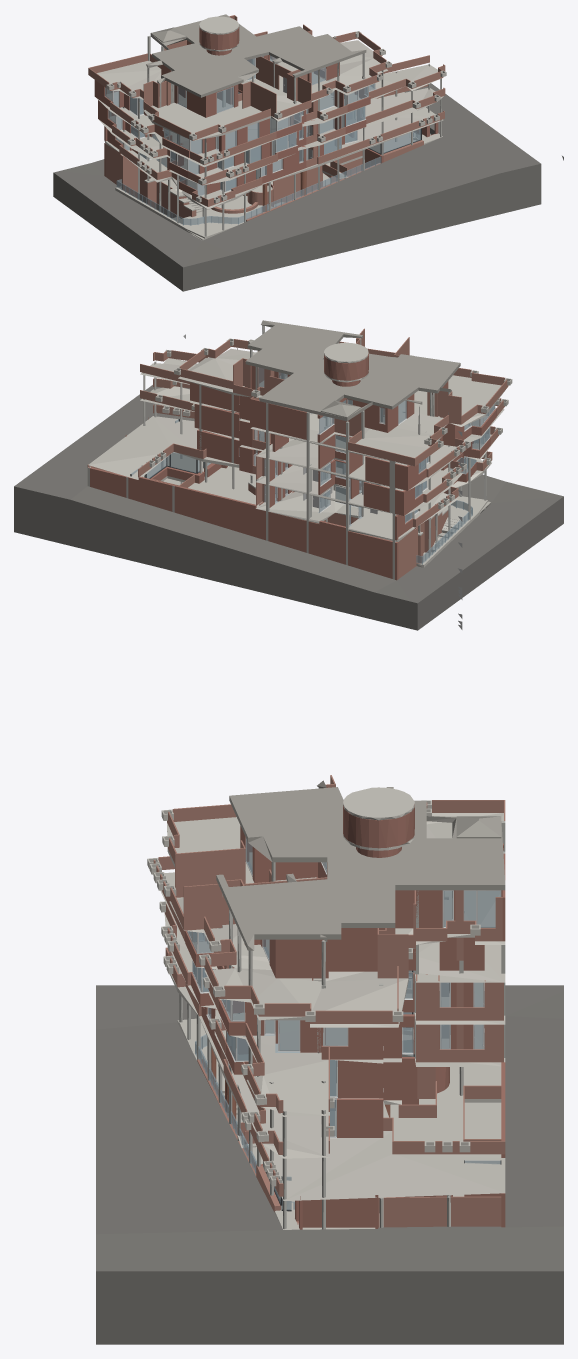
File: casa-ios.glb
The picture shows the model from 3 angles, top to bottom: view 1: azimuth 30°, elevation 25°; view 2: azimuth 150°, elevation 25°; view 3: azimuth 270°, elevation 25°; orthographic projection. The views are drawn at different scales.
Visible parts, largest first — view 1: Solido_topografico_Traiettoria___Asfalto_350_mm__1956631__11, Muro_di_base_parapetto___40_cm_2__161171__2, Pavimento_Latero_Cementizio___30_cm__147194__1, Gealan_S_9000_MD_800mm_x_2100mm_Finestra__214286__5, Muro_di_base_Tamponamento_Esterno___30_cm_2__165797__3, Tetto_di_base_Latero_Cementizio___40_cm__1576309__9, Pilastro_in_calcestruzzo___Circolare_300__190254__4, Famiglia34_Tipo_1__1580069__10; view 2: Solido_topografico_Traiettoria___Asfalto_350_mm__1956631__11, Muro_di_base_Tamponamento_Esterno___30_cm_2__165797__3, Pavimento_Latero_Cementizio___30_cm__147194__1, Muro_di_base_parapetto___40_cm_2__161171__2, Tetto_di_base_Latero_Cementizio___40_cm__1576309__9, Pilastro_in_calcestruzzo___Circolare_300__190254__4, Gealan_S_9000_MD_800mm_x_2100mm_Finestra__214286__5, Famiglia34_Tipo_1__1580069__10, Porta_Una_Anta___Semplice_80_x_210_cm__876467__8; view 3: Solido_topografico_Traiettoria___Asfalto_350_mm__1956631__11, Pavimento_Latero_Cementizio___30_cm__147194__1, Muro_di_base_parapetto___40_cm_2__161171__2, Muro_di_base_Tamponamento_Esterno___30_cm_2__165797__3, Tetto_di_base_Latero_Cementizio___40_cm__1576309__9, Gealan_S_9000_MD_800mm_x_2100mm_Finestra__214286__5, Pilastro_in_calcestruzzo___Circolare_300__190254__4, Famiglia34_Tipo_1__1580069__10.
Boxes of the visible parts, <box> form: Solido_topografico_Traiettoria___Asfalto_350_mm__1956631__11: <box>53,83,541,291</box>; Muro_di_base_parapetto___40_cm_2__161171__2: <box>88,15,445,221</box>; Pavimento_Latero_Cementizio___30_cm__147194__1: <box>95,16,443,240</box>; Gealan_S_9000_MD_800mm_x_2100mm_Finestra__214286__5: <box>105,55,421,225</box>; Muro_di_base_Tamponamento_Esterno___30_cm_2__165797__3: <box>94,15,438,194</box>; Tetto_di_base_Latero_Cementizio___40_cm__1576309__9: <box>146,14,366,97</box>; Pilastro_in_calcestruzzo___Circolare_300__190254__4: <box>107,36,441,236</box>; Famiglia34_Tipo_1__1580069__10: <box>106,31,446,203</box>; Solido_topografico_Traiettoria___Asfalto_350_mm__1956631__11: <box>14,385,563,630</box>; Muro_di_base_Tamponamento_Esterno___30_cm_2__165797__3: <box>87,351,496,580</box>; Pavimento_Latero_Cementizio___30_cm__147194__1: <box>88,342,506,567</box>; Muro_di_base_parapetto___40_cm_2__161171__2: <box>90,328,508,578</box>; Tetto_di_base_Latero_Cementizio___40_cm__1576309__9: <box>245,320,460,421</box>; Pilastro_in_calcestruzzo___Circolare_300__190254__4: <box>87,325,486,579</box>; Gealan_S_9000_MD_800mm_x_2100mm_Finestra__214286__5: <box>131,367,495,564</box>; Famiglia34_Tipo_1__1580069__10: <box>146,338,512,509</box>; Porta_Una_Anta___Semplice_80_x_210_cm__876467__8: <box>183,334,462,629</box>; Solido_topografico_Traiettoria___Asfalto_350_mm__1956631__11: <box>96,985,563,1344</box>; Pavimento_Latero_Cementizio___30_cm__147194__1: <box>153,787,505,1229</box>; Muro_di_base_parapetto___40_cm_2__161171__2: <box>153,775,505,1227</box>; Muro_di_base_Tamponamento_Esterno___30_cm_2__165797__3: <box>185,804,505,1229</box>; Tetto_di_base_Latero_Cementizio___40_cm__1576309__9: <box>216,780,505,950</box>; Gealan_S_9000_MD_800mm_x_2100mm_Finestra__214286__5: <box>187,838,503,1210</box>; Pilastro_in_calcestruzzo___Circolare_300__190254__4: <box>179,787,505,1229</box>; Famiglia34_Tipo_1__1580069__10: <box>147,800,480,1186</box>.
Size of the model in its own units: 0.5 by 0.2232 by 0.3321.
